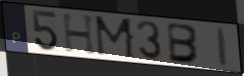3: (135, 20, 164, 62)
5: (30, 8, 60, 53)
B: (166, 21, 201, 65)
H: (61, 13, 98, 57)
I: (215, 26, 230, 69)
M: (93, 14, 137, 60)
